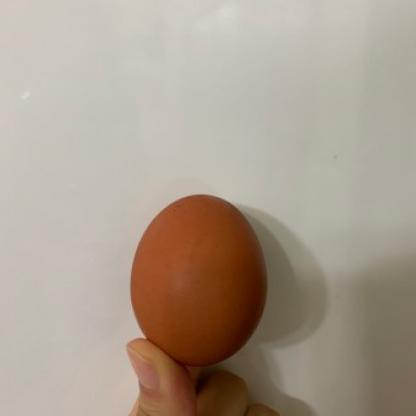egg: (132, 178, 272, 363)
